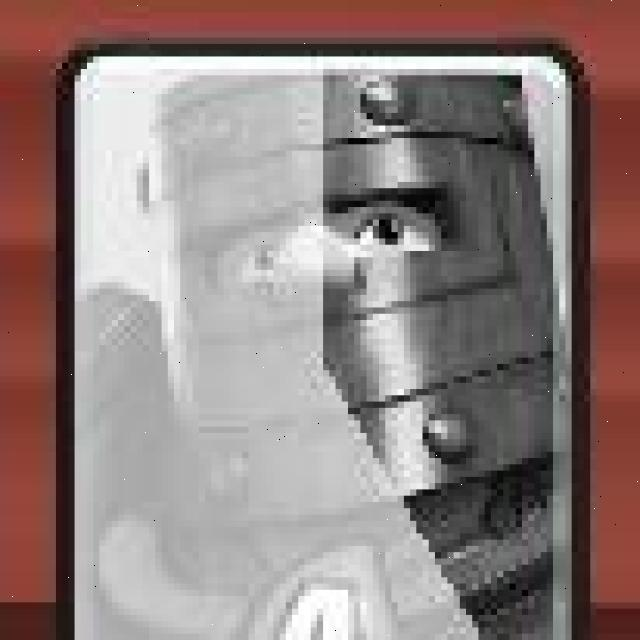Dark_Prince: (49, 37, 595, 640)
